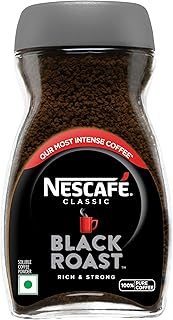Coffee: (4, 2, 173, 320)
